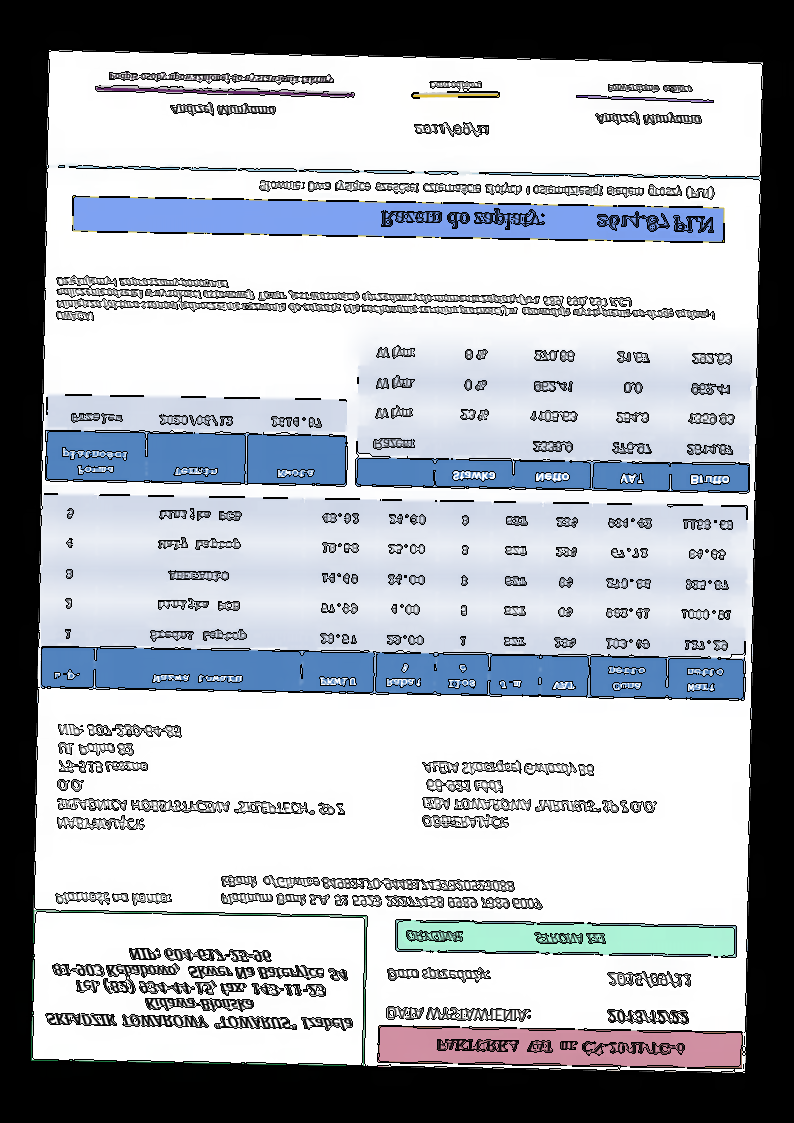Table: (38, 492, 749, 701), (353, 331, 754, 496), (44, 393, 349, 487)
TextBox: (54, 274, 720, 335), (53, 720, 350, 839), (43, 942, 359, 1036), (419, 756, 659, 836), (257, 173, 716, 204), (217, 871, 545, 913), (378, 204, 716, 239), (432, 1035, 686, 1060), (403, 927, 607, 951), (106, 70, 335, 87), (383, 1002, 531, 1028), (384, 964, 493, 988), (53, 889, 173, 910), (165, 101, 281, 120), (605, 968, 693, 992), (594, 109, 703, 128), (604, 1006, 691, 1028), (410, 120, 491, 141), (604, 81, 692, 96), (426, 76, 485, 94)
